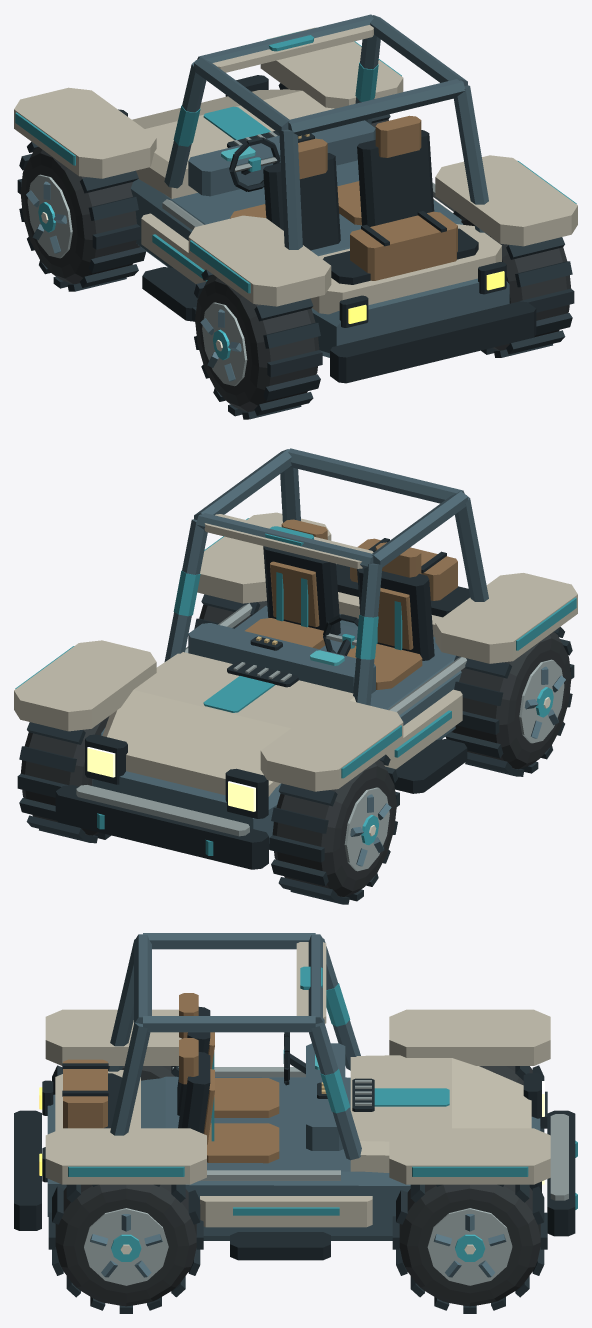
The model's file is car.glb.
3 views of the same model, one above another, from view 1: azimuth 30°, elevation 25°; view 2: azimuth 150°, elevation 25°; view 3: azimuth 270°, elevation 25° (orthographic).
Parts seen in each view (by area): view 1: car_body, car_wheels, car_lights; view 2: car_body, car_wheels, car_lights; view 3: car_body, car_wheels.
Part boxes in pixels (x1,y1,x2,y2): car_body: (14,14,577,383); car_wheels: (17,83,574,419); car_lights: (348,271,504,323); car_body: (14,448,577,869); car_wheels: (17,594,574,904); car_lights: (87,747,255,811); car_body: (14,933,577,1260); car_wheels: (48,1065,547,1313).
Size of the model in its own units: 2.68 by 2.09 by 4.02.
